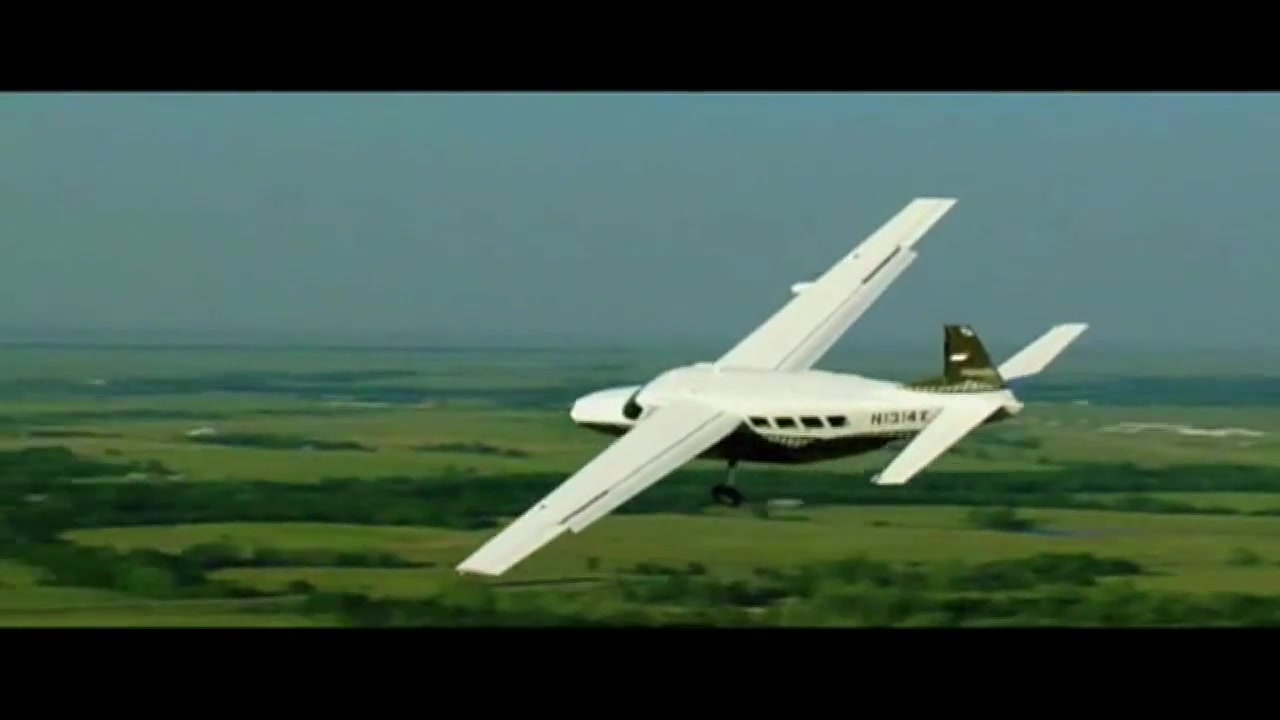aeroplane: (455, 198, 1089, 580)
